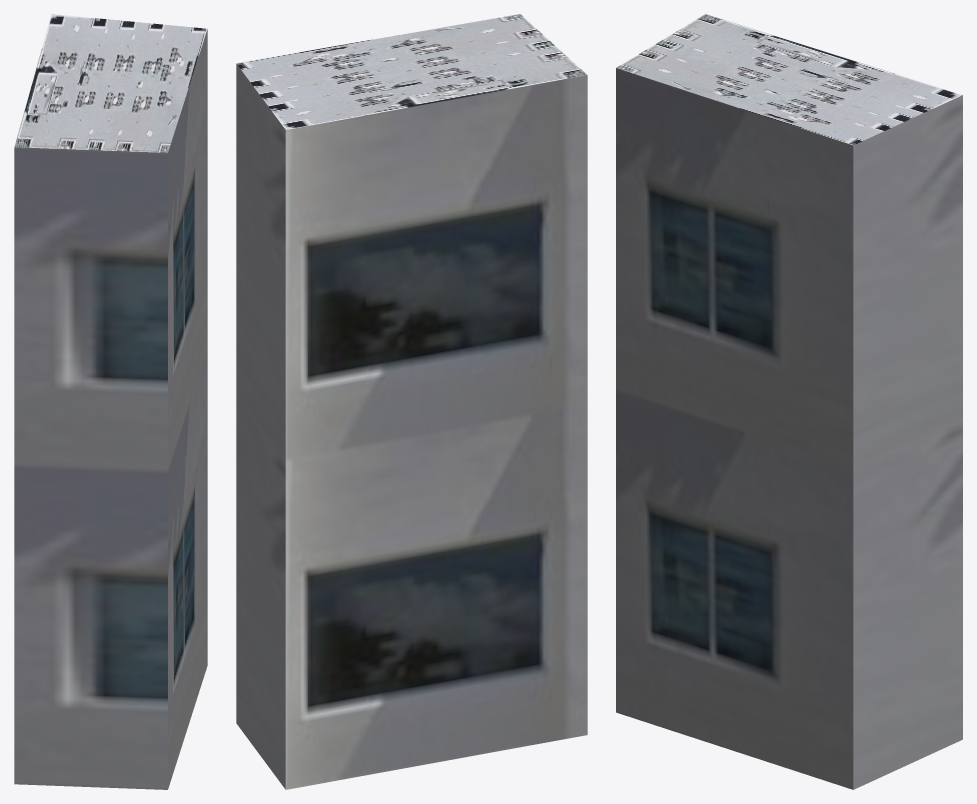
Rendered from ResTex__2919.fbx.
3 renders of one model, left to right at view 1: azimuth 30°, elevation 25°; view 2: azimuth 150°, elevation 25°; view 3: azimuth 270°, elevation 25°, orthographic. The views are drawn at different scales.
Parts seen in each view (by area): view 1: CityEngineMaterial_10_m, CityEngineMaterial_8_m; view 2: CityEngineMaterial_10_m, CityEngineMaterial_8_m; view 3: CityEngineMaterial_10_m, CityEngineMaterial_8_m.
Part boxes in pixels (x1,y1,x2,y2): CityEngineMaterial_10_m: [14, 29, 207, 789]; CityEngineMaterial_8_m: [14, 14, 207, 152]; CityEngineMaterial_10_m: [236, 64, 587, 789]; CityEngineMaterial_8_m: [236, 14, 587, 129]; CityEngineMaterial_10_m: [616, 68, 962, 789]; CityEngineMaterial_8_m: [616, 14, 962, 145].
Bounding box in the file's own units: 2.62 × 6 × 2.93.
Materials: 2 (2 with a texture image).
